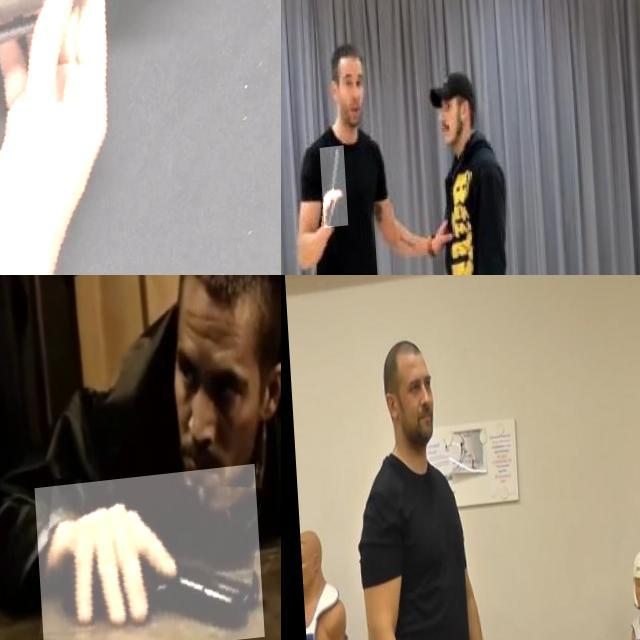-: (316, 152, 344, 234)
gun-knife-thesis - v11 Yolov5 augmented: (0, 0, 281, 275), (30, 473, 258, 640)
